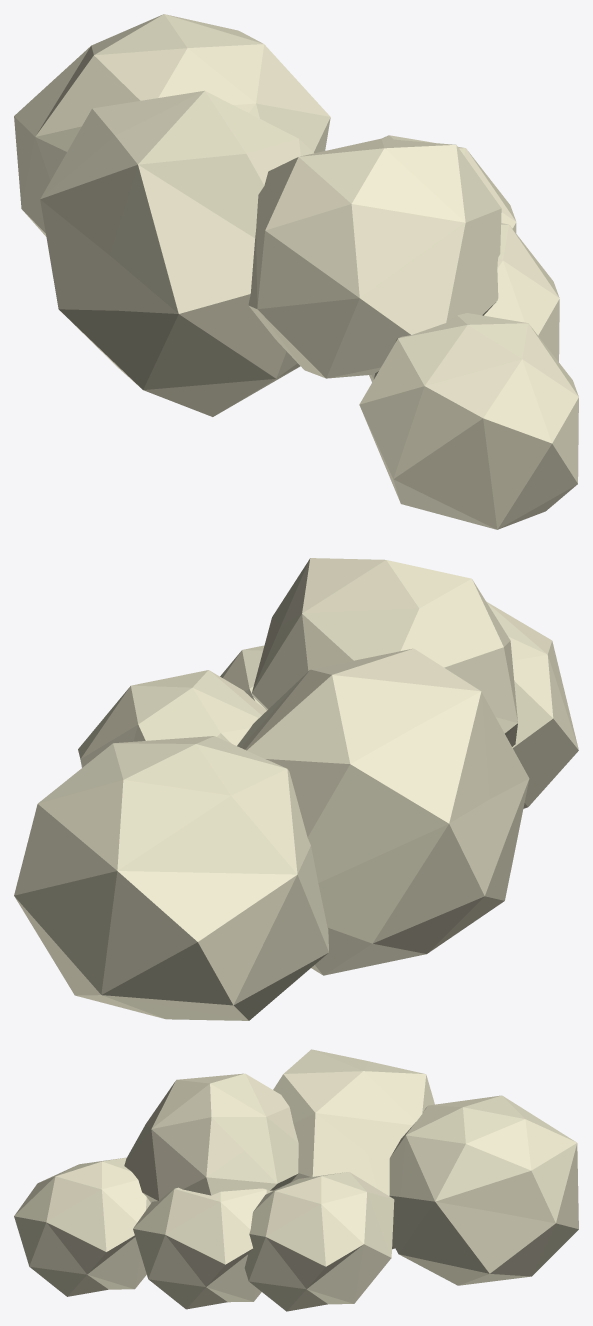
Rendered from cloud_3.FBX.
The picture shows the model from 3 angles, top to bottom: view 1: azimuth 30°, elevation 25°; view 2: azimuth 150°, elevation 25°; view 3: azimuth 270°, elevation 25°; orthographic projection. The views are drawn at different scales.
Visible parts, largest first — view 1: cloud_3; view 2: cloud_3; view 3: cloud_3.
Part boxes in pixels (left/top/right/bottom): cloud_3: left=14, top=14, right=578, bottom=529; cloud_3: left=14, top=558, right=578, bottom=1020; cloud_3: left=14, top=1049, right=578, bottom=1311.
Bounding box in the file's own units: 414 × 281 × 722.
